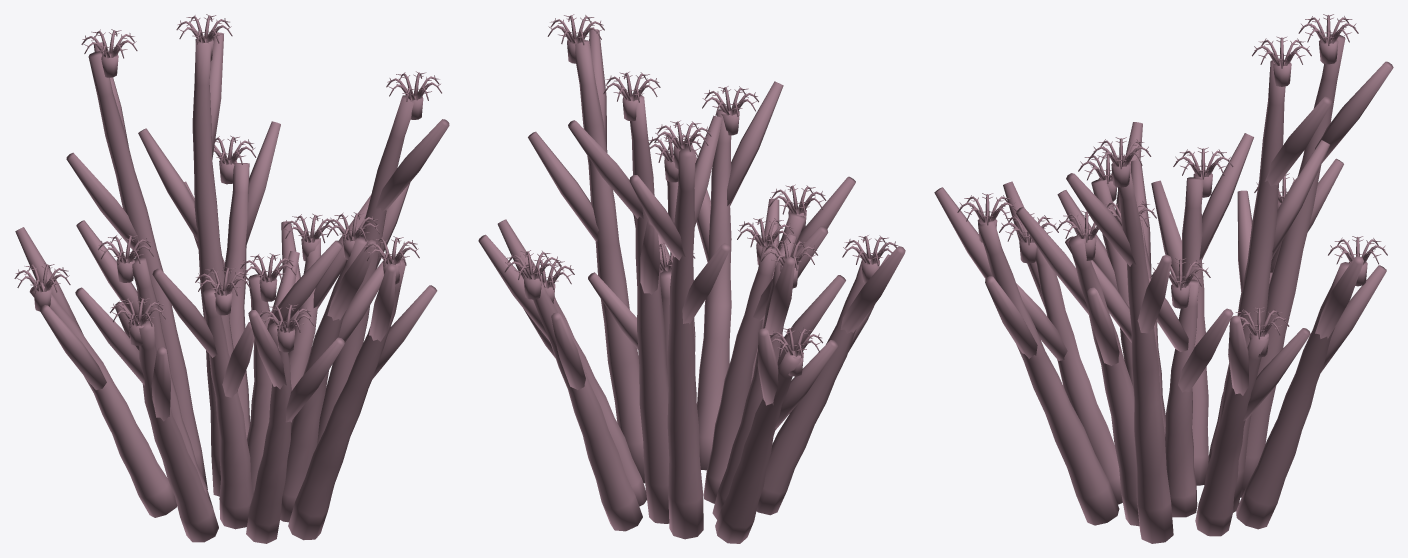
The model's file is kenya-mobile.glb.
3 views of the same model, side by side, from view 1: azimuth 30°, elevation 25°; view 2: azimuth 150°, elevation 25°; view 3: azimuth 270°, elevation 25° (orthographic). The views are drawn at different scales.
Visible parts, largest first — view 1: branch, lateral-branch, octocoral-tentacle, polyp-column, pinnule; view 2: branch, lateral-branch, octocoral-tentacle, polyp-column, pinnule; view 3: branch, lateral-branch, octocoral-tentacle, polyp-column, pinnule.
Boxes of the visible parts, x1,y1,x2,y2 form: branch: (29, 41, 413, 543); lateral-branch: (15, 32, 449, 422); octocoral-tentacle: (14, 15, 441, 334); polyp-column: (33, 38, 423, 352); pinnule: (15, 14, 440, 326); branch: (521, 40, 872, 543); lateral-branch: (478, 29, 905, 429); octocoral-tentacle: (504, 15, 896, 358); polyp-column: (523, 38, 879, 376); pinnule: (505, 14, 898, 350); branch: (978, 34, 1350, 543); lateral-branch: (934, 61, 1393, 420); octocoral-tentacle: (957, 15, 1387, 339); polyp-column: (977, 39, 1367, 357); pinnule: (959, 14, 1385, 330).
Bounding box in the file's own units: 0.487 × 0.5936 × 0.5257.
